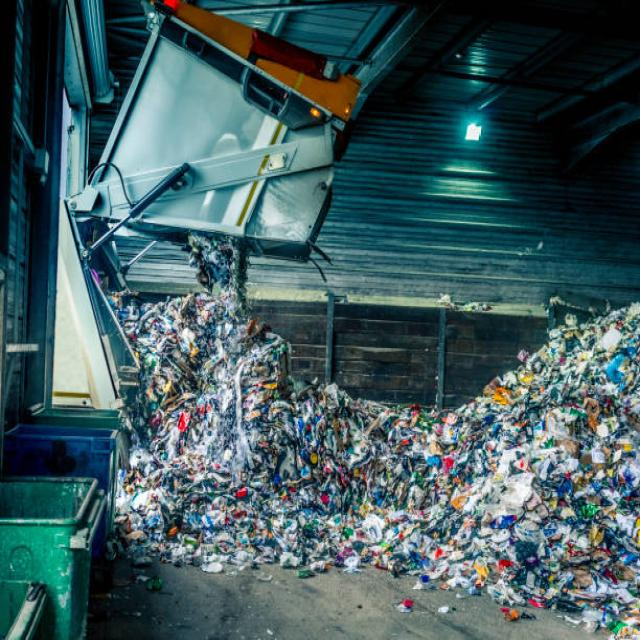plastic: (188, 403, 607, 560)
